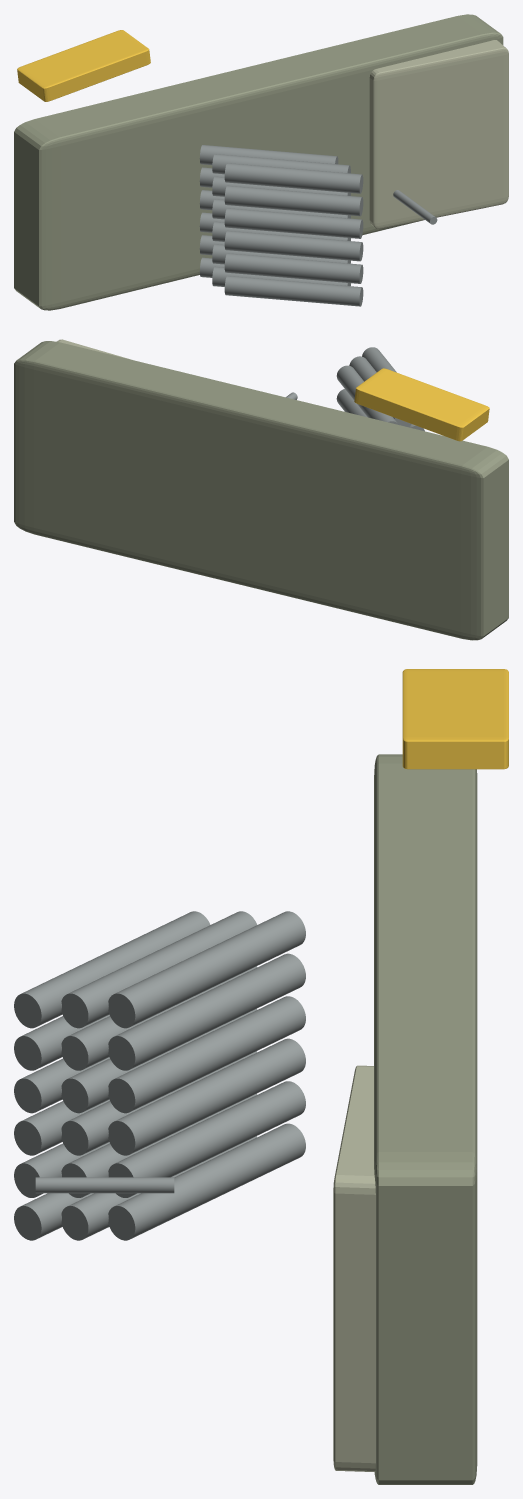
File: v-x03-vanguard-drone-lod2.glb
3 renders of one model, top to bottom at view 1: azimuth 30°, elevation 25°; view 2: azimuth 150°, elevation 25°; view 3: azimuth 270°, elevation 25°, orthographic. The views are drawn at different scales.
Visible parts, largest first — view 1: strategic_lower, strategic_nose, strategic_jack_1, drone_cells_tube_16, drone_cells_tube_14, drone_cells_tube_18, drone_cells_tube_13, drone_cells_tube_17, drone_cells_tube_15, drone_cells_tube_12, drone_cells_tube_6, drone_cells_tube_8 (+5 smaller); view 2: strategic_lower, strategic_jack_1, drone_cells_tube_6, drone_cells_tube_12, drone_cells_tube_18, drone_cells_tube_5; view 3: strategic_lower, strategic_nose, strategic_jack_1, drone_cells_tube_3, drone_cells_tube_5, drone_cells_tube_4, drone_cells_tube_6, drone_cells_tube_1, drone_cells_tube_2, drone_cells_tube_18, drone_cells_tube_12, drone_control_mast (+10 smaller).
Boxes of the visible parts, bbox=[...] form: strategic_lower: bbox=[14, 14, 503, 310]; strategic_nose: bbox=[369, 40, 508, 228]; strategic_jack_1: bbox=[17, 30, 150, 101]; drone_cells_tube_16: bbox=[224, 208, 363, 238]; drone_cells_tube_14: bbox=[224, 253, 363, 283]; drone_cells_tube_18: bbox=[224, 163, 363, 193]; drone_cells_tube_13: bbox=[224, 276, 363, 306]; drone_cells_tube_17: bbox=[224, 185, 363, 216]; drone_cells_tube_15: bbox=[224, 230, 363, 261]; drone_cells_tube_12: bbox=[212, 154, 350, 174]; drone_cells_tube_6: bbox=[199, 145, 338, 165]; drone_cells_tube_8: bbox=[212, 244, 350, 264]; strategic_lower: bbox=[14, 341, 508, 640]; strategic_jack_1: bbox=[354, 368, 489, 441]; drone_cells_tube_6: bbox=[336, 365, 398, 424]; drone_cells_tube_12: bbox=[349, 356, 411, 427]; drone_cells_tube_18: bbox=[362, 347, 396, 372]; drone_cells_tube_5: bbox=[336, 389, 367, 417]; strategic_lower: bbox=[374, 754, 477, 1484]; strategic_nose: bbox=[333, 1065, 375, 1472]; strategic_jack_1: bbox=[402, 669, 508, 769]; drone_cells_tube_3: bbox=[108, 1038, 305, 1155]; drone_cells_tube_5: bbox=[108, 953, 305, 1070]; drone_cells_tube_4: bbox=[108, 996, 305, 1113]; drone_cells_tube_6: bbox=[108, 911, 305, 1028]; drone_cells_tube_1: bbox=[108, 1123, 305, 1240]; drone_cells_tube_2: bbox=[108, 1081, 305, 1197]; drone_cells_tube_18: bbox=[14, 911, 210, 1028]; drone_cells_tube_12: bbox=[61, 911, 257, 1028]; drone_control_mast: bbox=[35, 1177, 174, 1193].
Size of what is drawn, in the model's own units: 9.05 by 4.3 by 4.44.
